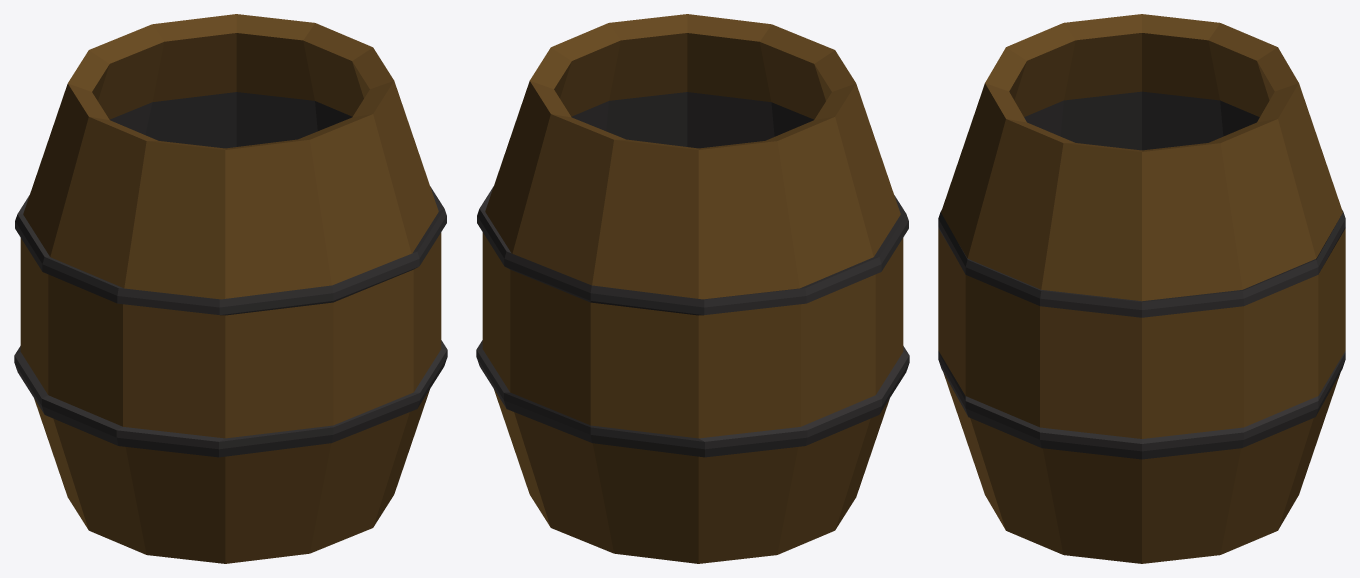
The model's file is SM_SM_Barrel_03.fbx.
3 views of the same model, side by side, from view 1: azimuth 30°, elevation 25°; view 2: azimuth 150°, elevation 25°; view 3: azimuth 270°, elevation 25° (orthographic).
Parts seen in each view (by area): view 1: SM_Barrel_03; view 2: SM_Barrel_03; view 3: SM_Barrel_03.
Boxes of the visible parts, bbox=[...] form: SM_Barrel_03: bbox=[14, 14, 447, 563]; SM_Barrel_03: bbox=[476, 14, 909, 563]; SM_Barrel_03: bbox=[938, 14, 1345, 563].
Bounding box in the file's own units: 66.9 × 69.95 × 62.7.
